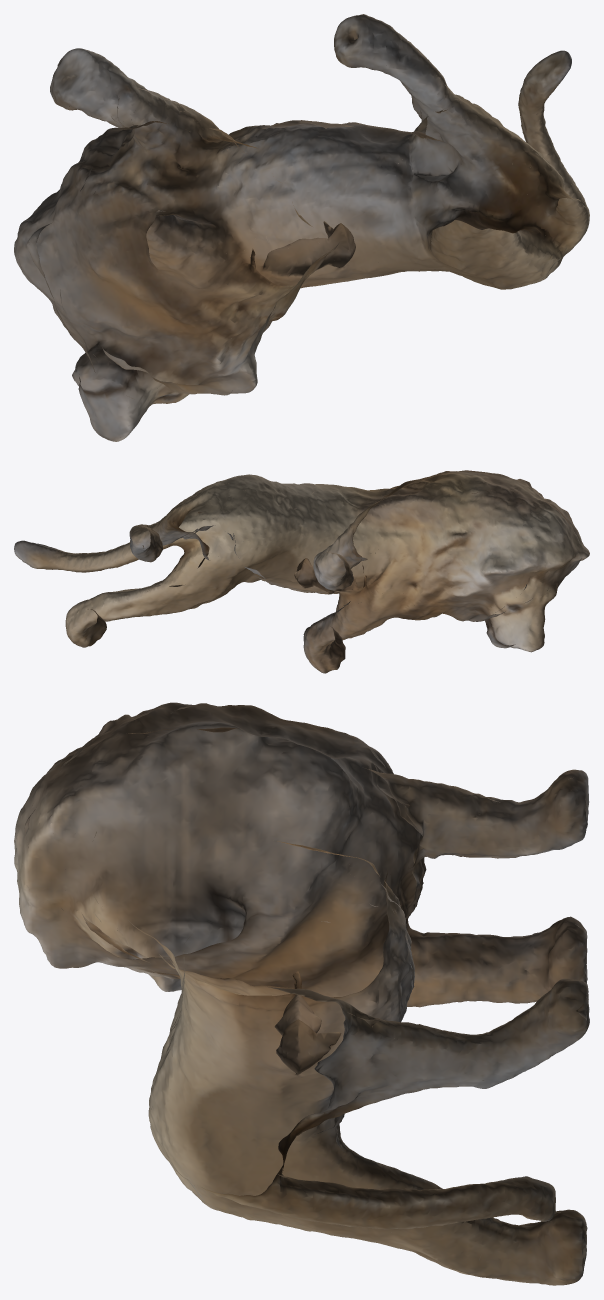
The model's file is lion.glb.
3 views of the same model, one above another, from view 1: azimuth 30°, elevation 25°; view 2: azimuth 150°, elevation 25°; view 3: azimuth 270°, elevation 25° (orthographic). The views are drawn at different scales.
Bounding box in the file's own units: 1 × 0.3613 × 0.6046.
